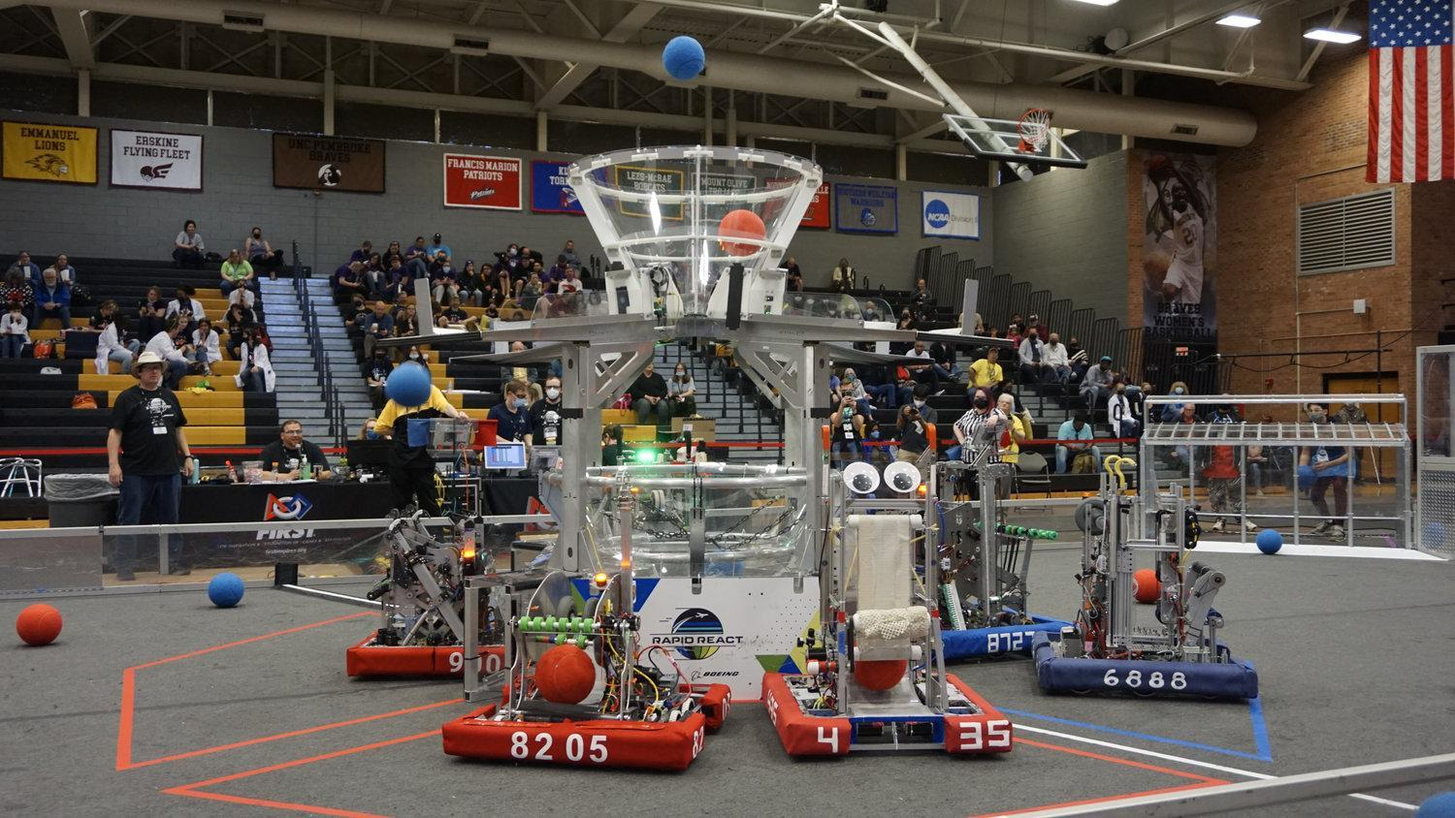robot: (440, 460, 738, 778), (753, 456, 1023, 768), (1031, 452, 1265, 705), (888, 417, 1082, 668), (346, 462, 529, 688)
